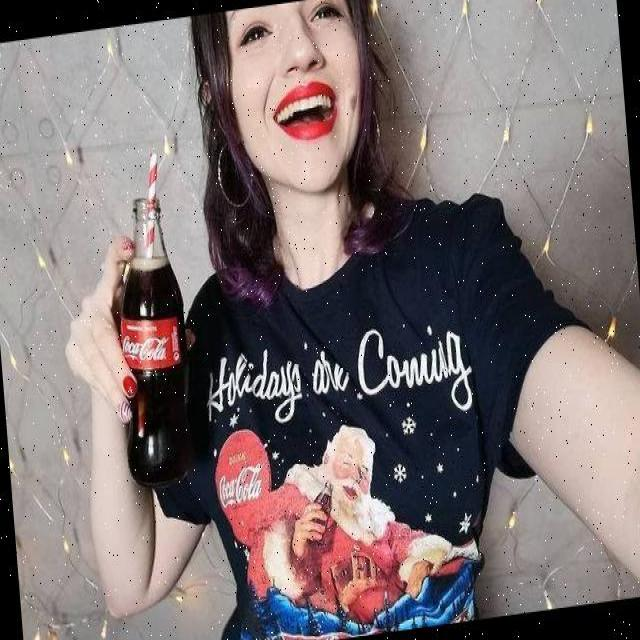coca-cola: (104, 188, 201, 493)
